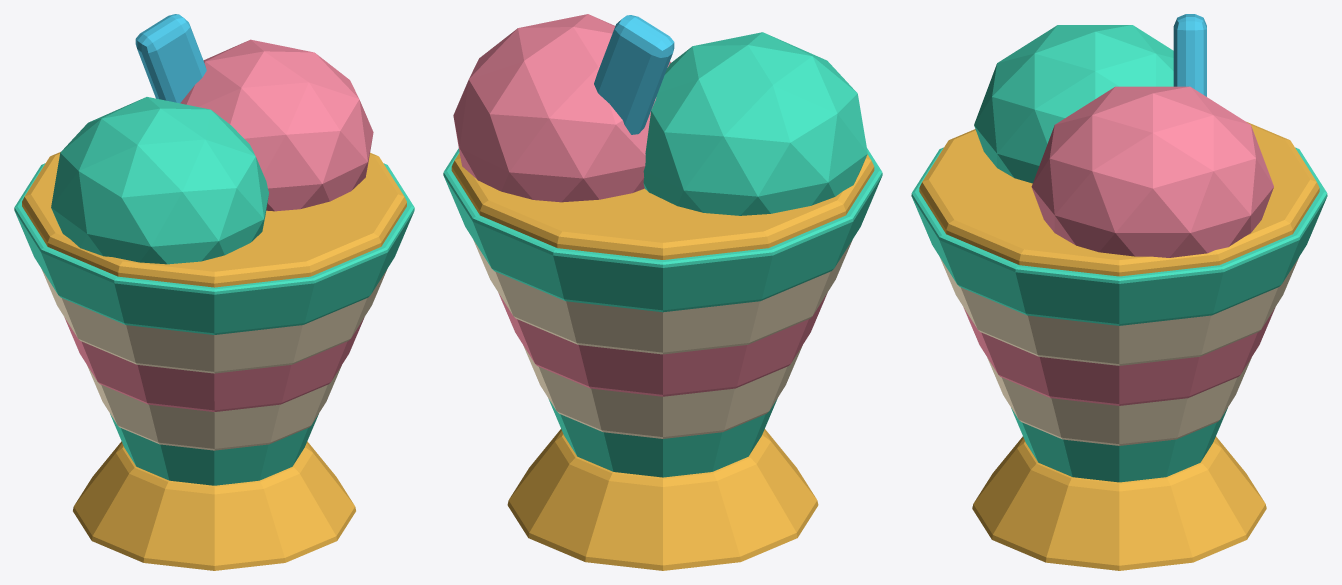
Rendered from gelato_parfait.glb.
3 renders of one model, left to right at view 1: azimuth 30°, elevation 25°; view 2: azimuth 150°, elevation 25°; view 3: azimuth 270°, elevation 25°, orthographic. The views are drawn at different scales.
Visible parts, largest first — view 1: Mint scoop, Cup rim, Berry scoop, Parfait layer.001, Crystal garnish; view 2: Mint scoop, Cup rim, Berry scoop, Parfait layer.001, Crystal garnish; view 3: Cup rim, Berry scoop, Mint scoop, Parfait layer.001, Crystal garnish.
Boxes of the visible parts, x1=… form: Mint scoop: x1=14, y1=97, x2=414, y2=485; Cup rim: x1=22, y1=152, x2=406, y2=570; Berry scoop: x1=64, y1=39, x2=373, y2=411; Parfait layer.001: x1=42, y1=270, x2=386, y2=450; Crystal garnish: x1=135, y1=14, x2=206, y2=103; Mint scoop: x1=443, y1=32, x2=882, y2=477; Cup rim: x1=451, y1=153, x2=874, y2=570; Berry scoop: x1=453, y1=14, x2=827, y2=396; Parfait layer.001: x1=473, y1=240, x2=852, y2=438; Crystal garnish: x1=594, y1=15, x2=674, y2=134; Cup rim: x1=919, y1=122, x2=1319, y2=570; Berry scoop: x1=963, y1=86, x2=1275, y2=405; Mint scoop: x1=911, y1=25, x2=1327, y2=482; Parfait layer.001: x1=940, y1=258, x2=1298, y2=445; Crystal garnish: x1=1173, y1=14, x2=1206, y2=96.
Bounding box in the file's own units: 0.6862 × 0.892 × 0.6862.
